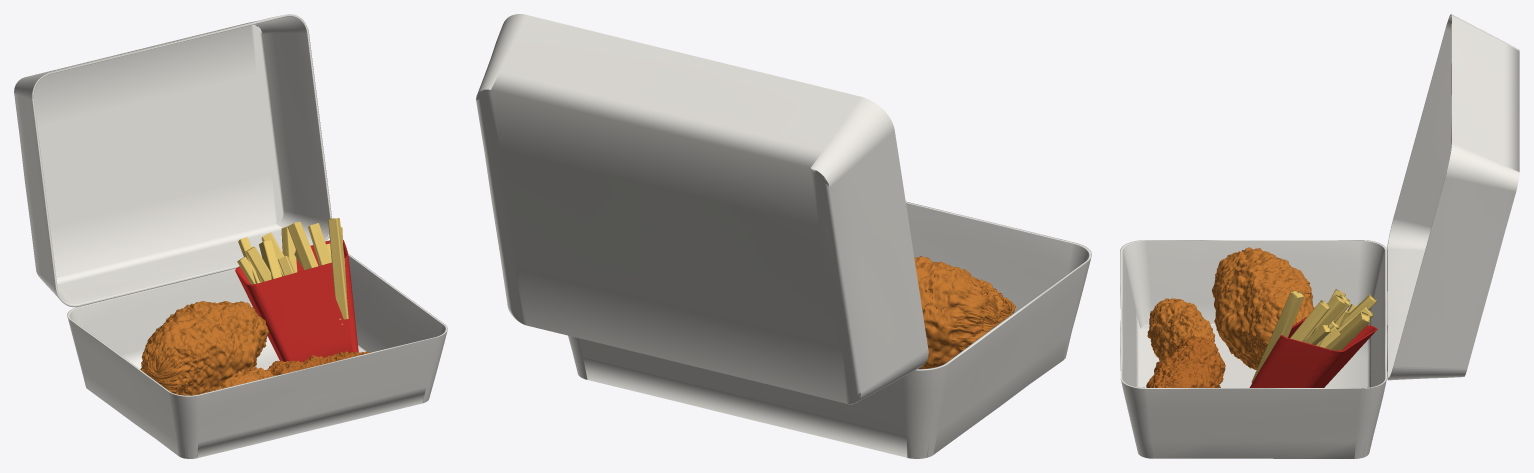
The model's file is meal_box.glb.
3 views of the same model, side by side, from view 1: azimuth 30°, elevation 25°; view 2: azimuth 150°, elevation 25°; view 3: azimuth 270°, elevation 25° (orthographic). The views are drawn at different scales.
Parts seen in each view (by area): view 1: box_lid, box_base, chicken_thigh, fries_carton, fry_01, chicken_tender, fry_10, chicken_wing, fry_14, fry_12, fry_11; view 2: box_lid, box_base, chicken_thigh; view 3: box_base, box_lid, chicken_thigh, fries_carton, chicken_tender, chicken_wing, fry_01, fry_02, fry_14, fry_10.
Boxes of the visible parts, left/top/right/bottom form: box_lid: left=14, top=14, right=331, bottom=307; box_base: left=67, top=254, right=447, bottom=458; chicken_thigh: left=140, top=301, right=269, bottom=395; fries_carton: left=235, top=240, right=358, bottom=362; fry_01: left=328, top=218, right=348, bottom=319; chicken_tender: left=267, top=351, right=369, bottom=375; fry_10: left=287, top=221, right=318, bottom=270; chicken_wing: left=201, top=366, right=273, bottom=393; fry_14: left=308, top=223, right=341, bottom=319; fry_12: left=259, top=240, right=282, bottom=279; fry_11: left=245, top=246, right=271, bottom=282; box_lid: left=476, top=14, right=928, bottom=404; box_base: left=568, top=201, right=1091, bottom=458; chicken_thigh: left=914, top=256, right=998, bottom=368; box_base: left=1120, top=240, right=1387, bottom=458; box_lid: left=1387, top=14, right=1519, bottom=380; chicken_thigh: left=1212, top=247, right=1314, bottom=369; fries_carton: left=1249, top=317, right=1377, bottom=387; chicken_tender: left=1146, top=336, right=1225, bottom=387; chicken_wing: left=1147, top=298, right=1215, bottom=361; fry_01: left=1251, top=290, right=1304, bottom=382; fry_02: left=1326, top=311, right=1370, bottom=350; fry_14: left=1290, top=300, right=1330, bottom=341; fry_10: left=1304, top=294, right=1346, bottom=340.
Size of the model in its own units: 0.2563 by 0.2615 by 0.2903.
